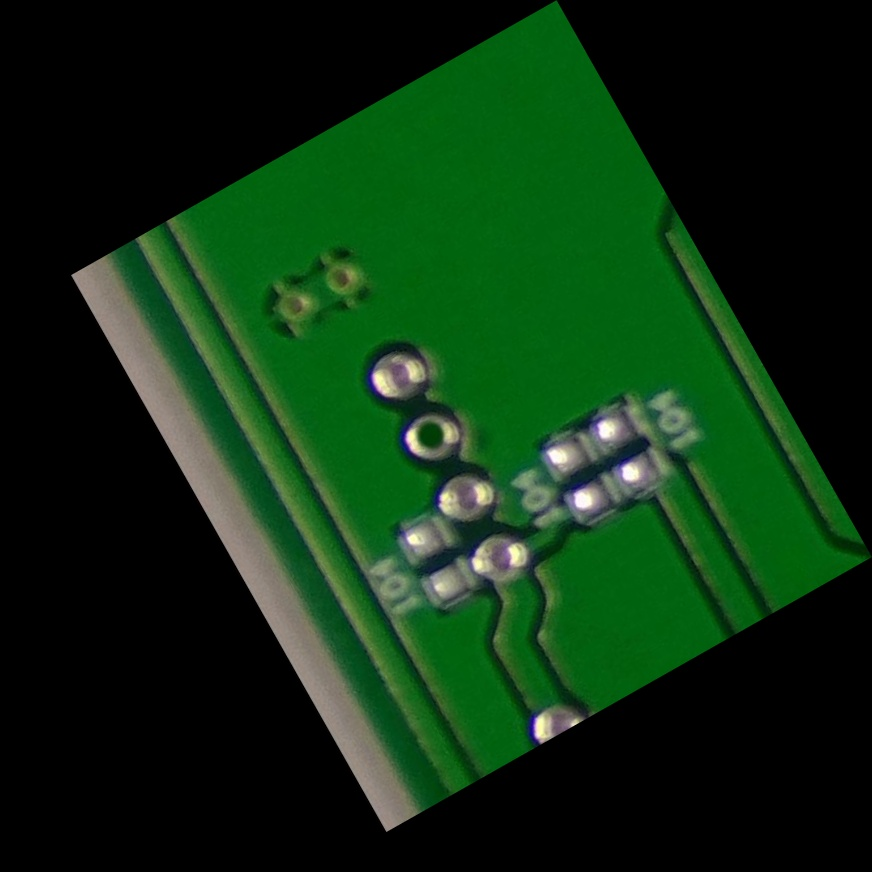missing_hole: (386, 389, 485, 484)
